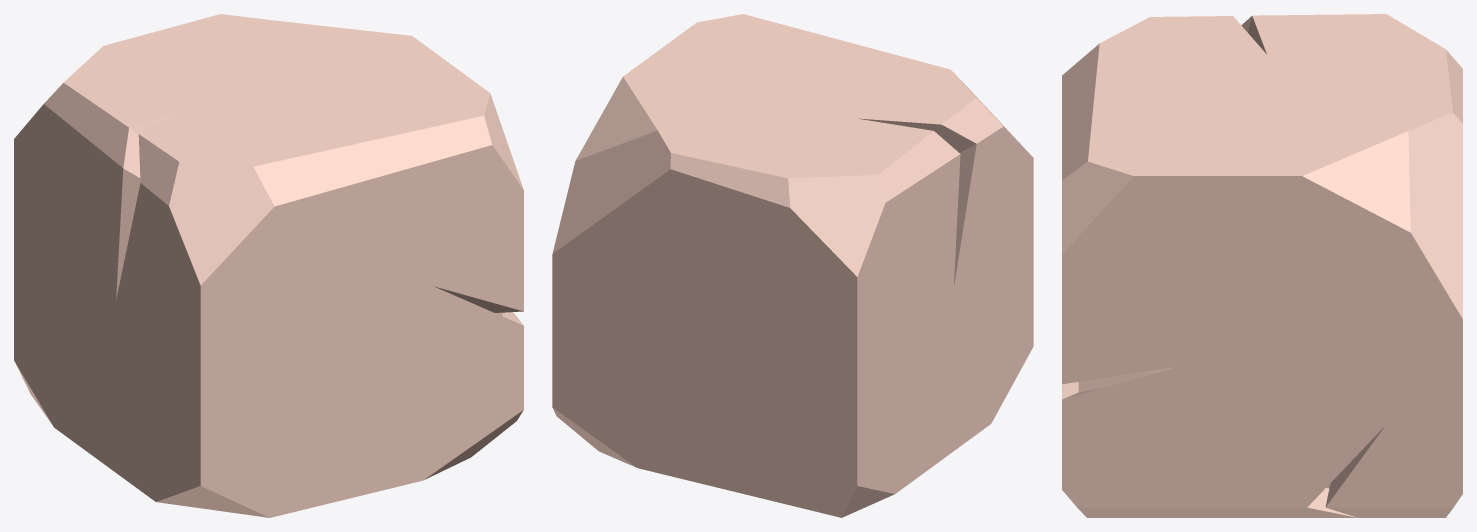
Rendered from Stone 2.fbx.
3 views of the same model, side by side, from view 1: azimuth 30°, elevation 25°; view 2: azimuth 150°, elevation 25°; view 3: azimuth 270°, elevation 25° (orthographic). The views are drawn at different scales.
Visible parts, largest first — view 1: Stone 2; view 2: Stone 2; view 3: Stone 2.
Part boxes in pixels (x1,y1,x2,y2): Stone 2: [14, 14, 523, 517]; Stone 2: [552, 14, 1033, 517]; Stone 2: [1062, 14, 1462, 517].
Bounding box in the file's own units: 200 × 200 × 200.
